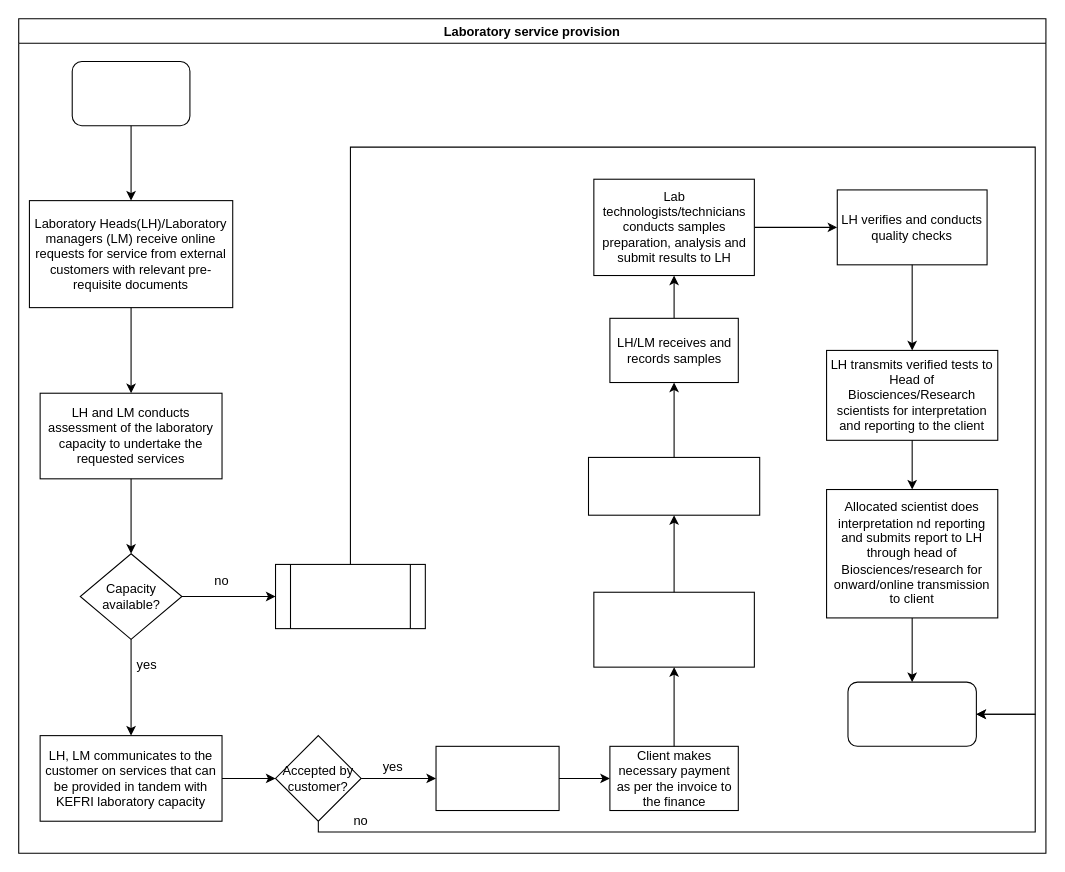
Some shapes in this 1065 by 872 pixel diagram are drawn without their labels. Here are the shapes that lost their labels. From the top down, the centre of each, then its label:
At (x=130, y=93): "Start".
At (x=673, y=485): "Client submits sample".
At (x=349, y=596): "Notify customer that service cannot be undertaken".
At (x=673, y=629): "Once acknowledged the system generates receipt and sends to client".
At (x=911, y=713): "End".
At (x=497, y=778): "LH invoices for the services".
